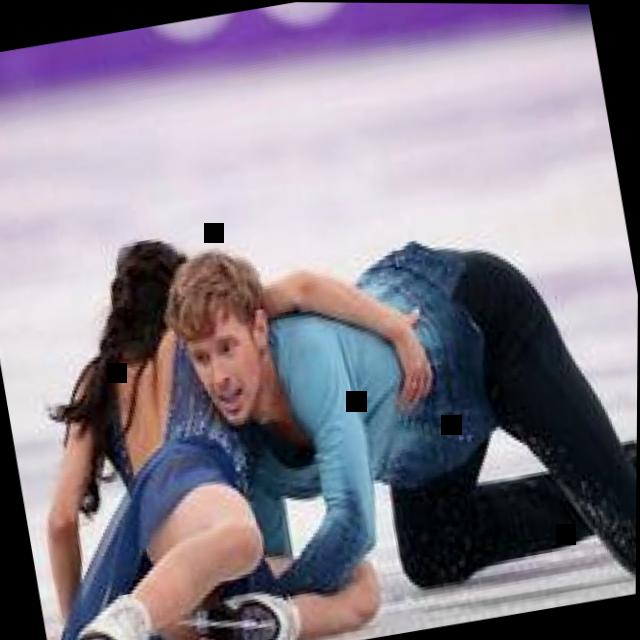Fall-Detected: (0, 174, 409, 640)
